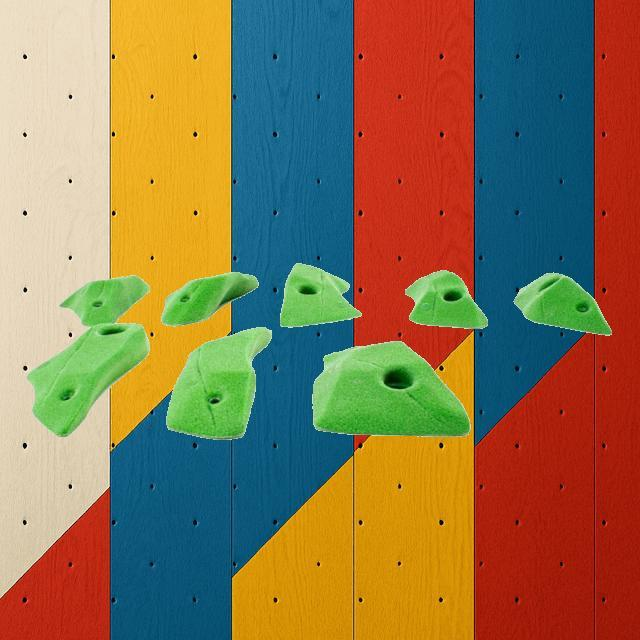Crimp: (312, 339, 471, 436), (26, 321, 150, 437), (165, 326, 273, 438), (512, 271, 612, 335), (160, 270, 258, 326), (278, 262, 362, 326), (404, 268, 488, 328), (58, 274, 150, 326)
